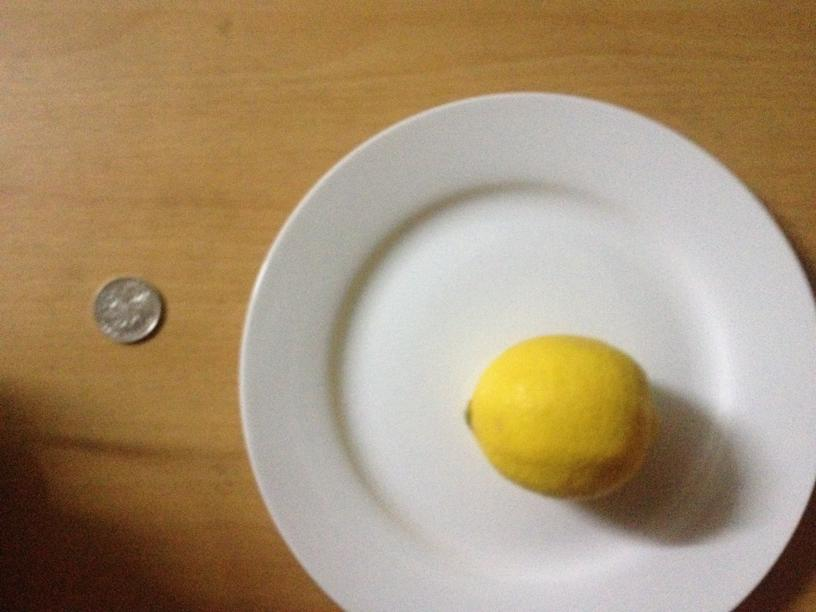coin: (91, 277, 164, 344)
lemon: (470, 332, 658, 498)
